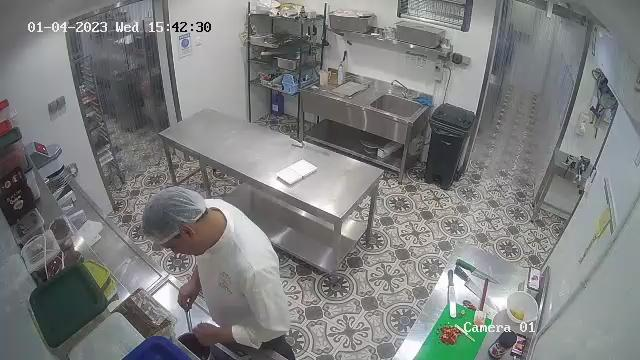no_apron: (200, 232, 267, 351)
